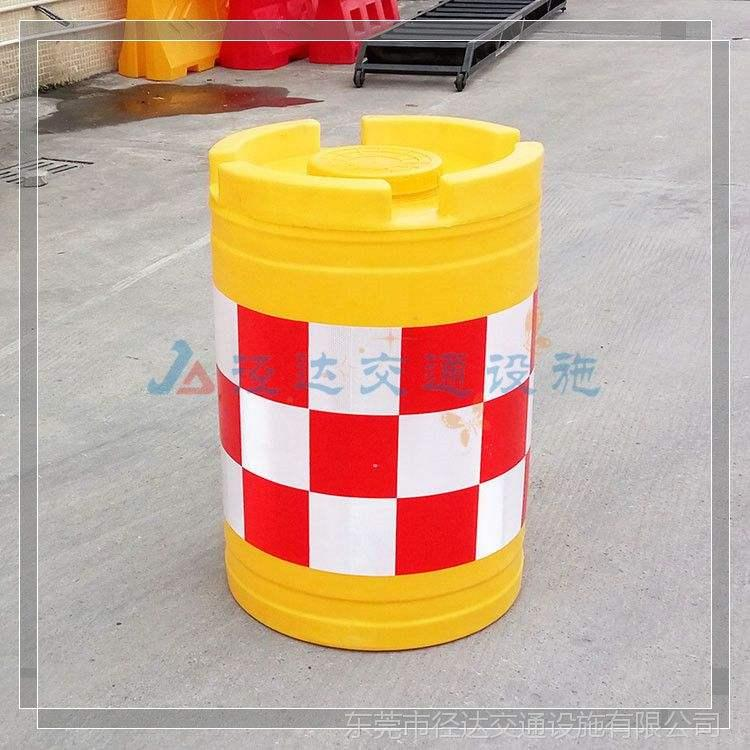sign: (183, 99, 545, 657)
